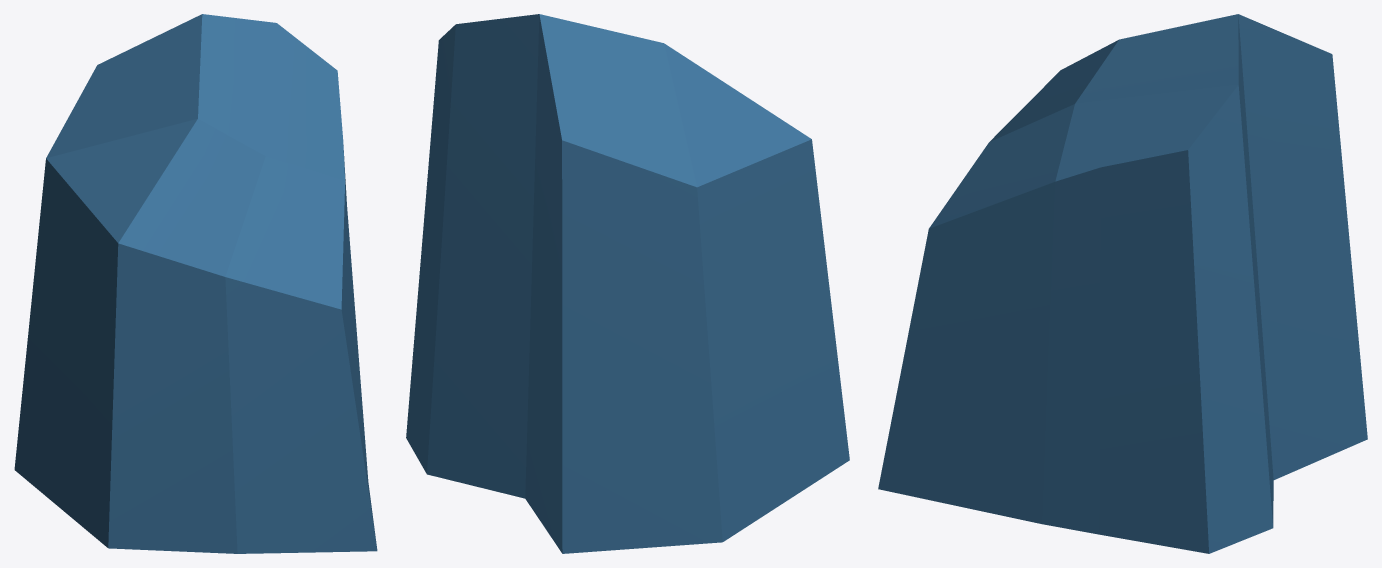
Rendered from SM_IceRock2.fbx.
The picture shows the model from 3 angles, left to right: view 1: azimuth 30°, elevation 25°; view 2: azimuth 150°, elevation 25°; view 3: azimuth 270°, elevation 25°; orthographic projection. The views are drawn at different scales.
Visible parts, largest first — view 1: SM_IceRock2; view 2: SM_IceRock2; view 3: SM_IceRock2.
Part boxes in pixels (bbox=[...]): SM_IceRock2: bbox=[14, 14, 377, 553]; SM_IceRock2: bbox=[406, 14, 849, 553]; SM_IceRock2: bbox=[878, 14, 1367, 553].
Size of the model in its own units: 28.73 by 36.33 by 34.45.
